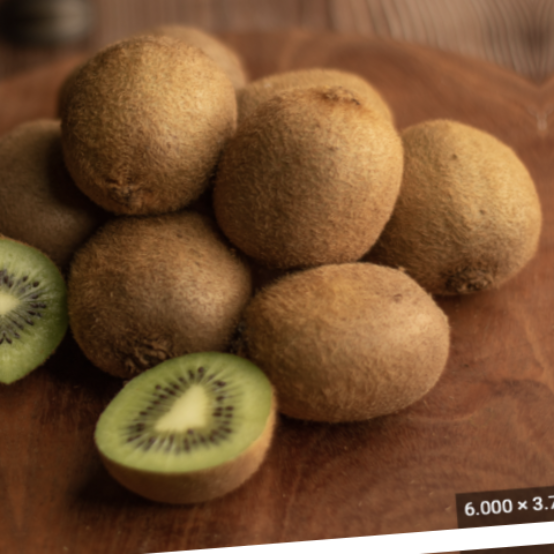kiwi: (205, 252, 477, 428), (181, 73, 418, 271), (35, 202, 264, 393), (34, 19, 248, 216), (360, 109, 551, 321)
